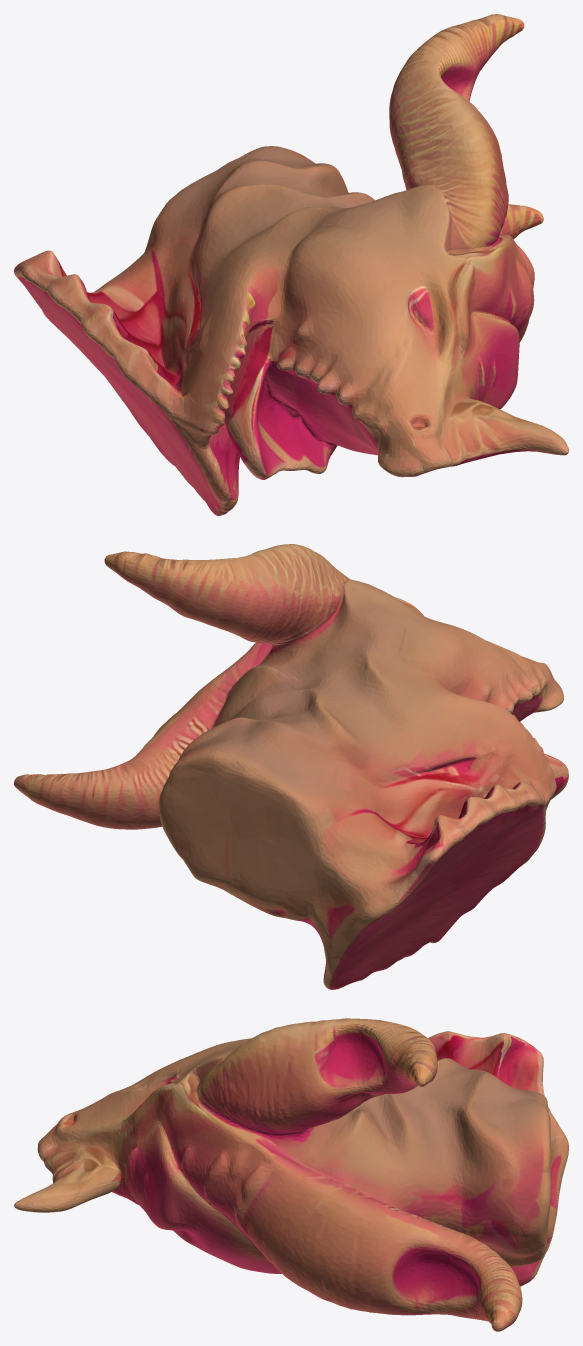
The model's file is deathr-reaper-orange.glb.
3 views of the same model, one above another, from view 1: azimuth 30°, elevation 25°; view 2: azimuth 150°, elevation 25°; view 3: azimuth 270°, elevation 25° (orthographic). The views are drawn at different scales.
Parts seen in each view (by area): view 1: deathr reaper orange_textured.obj; view 2: deathr reaper orange_textured.obj; view 3: deathr reaper orange_textured.obj.
Boxes of the visible parts, box(x1,y1,x2,y2) form: deathr reaper orange_textured.obj: box(14, 14, 568, 515); deathr reaper orange_textured.obj: box(14, 544, 568, 989); deathr reaper orange_textured.obj: box(14, 1018, 568, 1331).
Bounding box in the file's own units: 1.95 × 1.45 × 1.98.
1 material, 1 textured.
